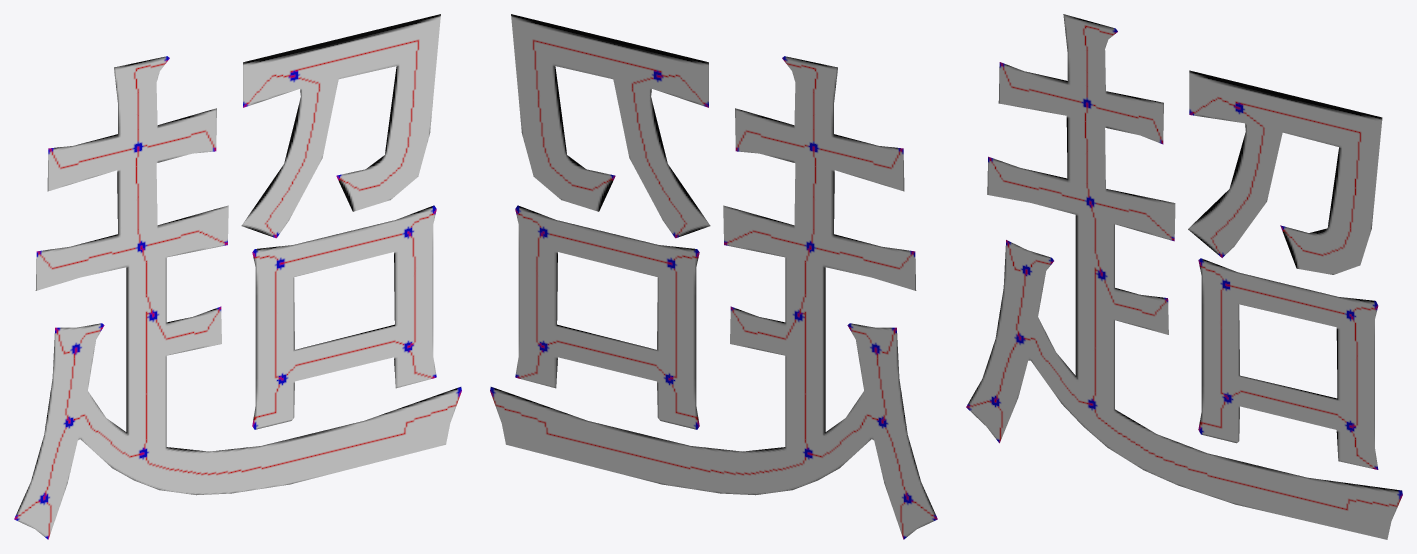
The picture shows the model from 3 angles, left to right: view 1: azimuth 30°, elevation 25°; view 2: azimuth 150°, elevation 25°; view 3: azimuth 330°, elevation 25°; orthographic projection. The views are drawn at different scales.
Parts seen in each view (by area): view 1: default; view 2: default; view 3: default.
Part boxes in pixels (x1=…): default: x1=14, y1=14, x2=461, y2=539; default: x1=490, y1=14, x2=937, y2=539; default: x1=966, y1=14, x2=1402, y2=539.
Size of the model in its own units: 0.5215 by 0.5117 by 0.
1 material, 1 textured.
